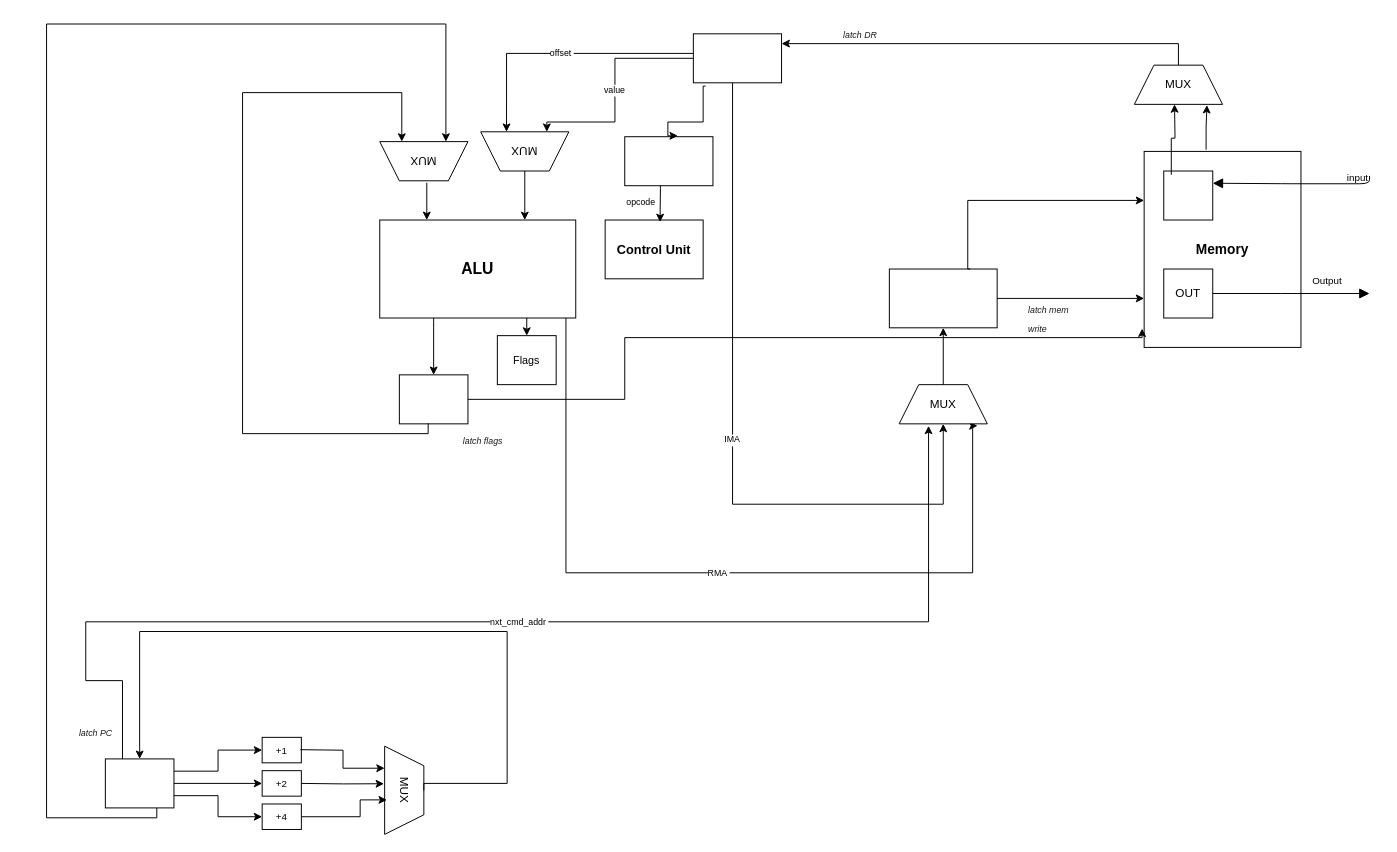
Some shapes in this 1397 by 852 pixel diagram are drawn without their labels. Here are the shapes that lost their labels. From the top down, the box of each, then its label:
(692, 33, 782, 83): DR
(624, 136, 713, 186): IR
(1163, 170, 1213, 220): IN
(888, 268, 997, 328): Address decoder
(398, 374, 468, 424): ACC
(104, 758, 174, 808): PC
